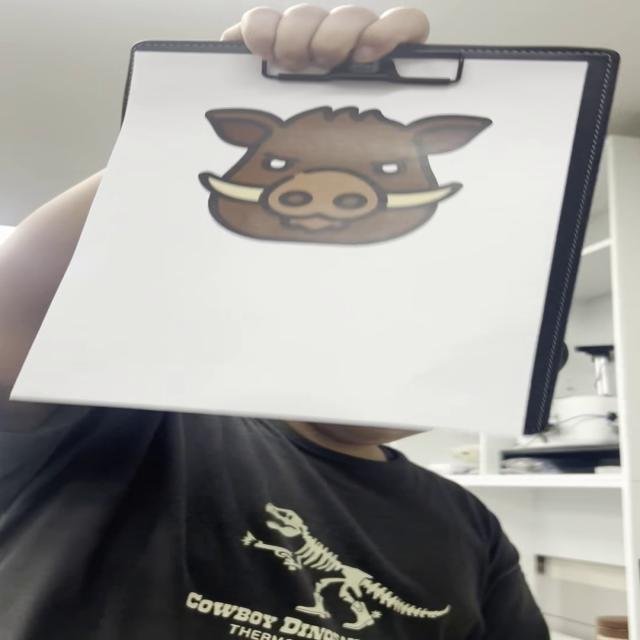animal: (198, 103, 494, 249)
